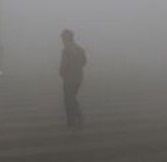person: (58, 28, 89, 127)
